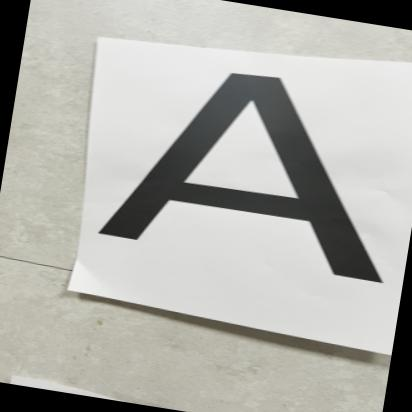seat: (95, 45, 412, 327)
